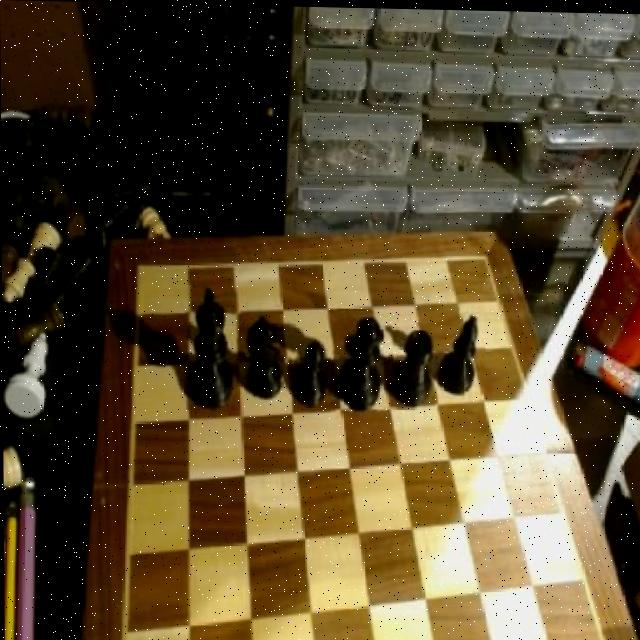bishop: (442, 308, 485, 400)
black-bishop: (183, 285, 240, 413)
black-king: (243, 312, 291, 410)
black-knight: (294, 331, 335, 411)
black-pawn: (336, 308, 389, 417)
black-queen: (393, 319, 438, 407)
